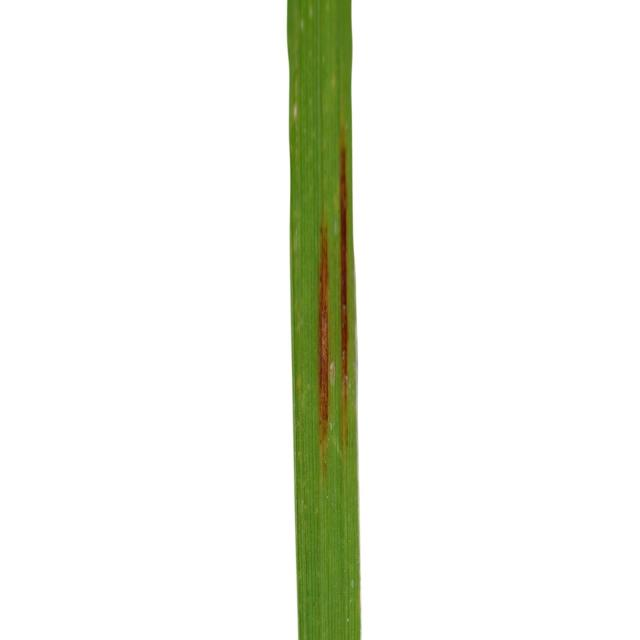Narrow brown: (222, 0, 468, 640)
